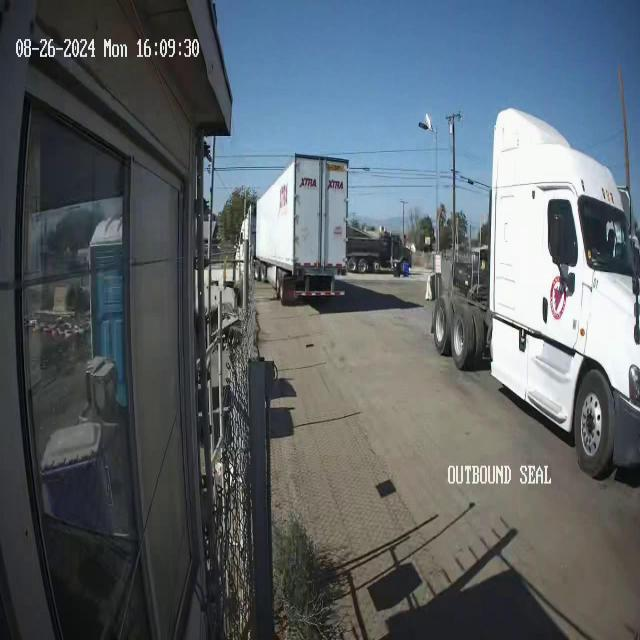CONTAINER: (256, 152, 350, 274)
